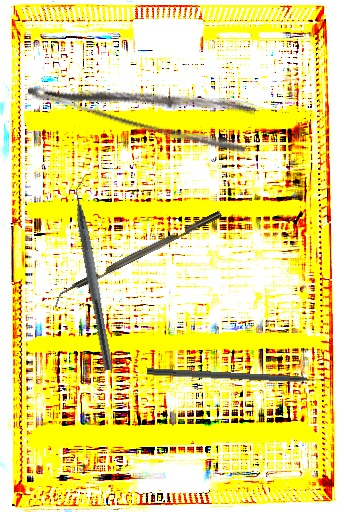Chopper: (47, 210, 227, 309), (66, 173, 127, 371)
Dressing Forceps: (25, 46, 258, 158)
Hook Surgical: (146, 368, 334, 387)
